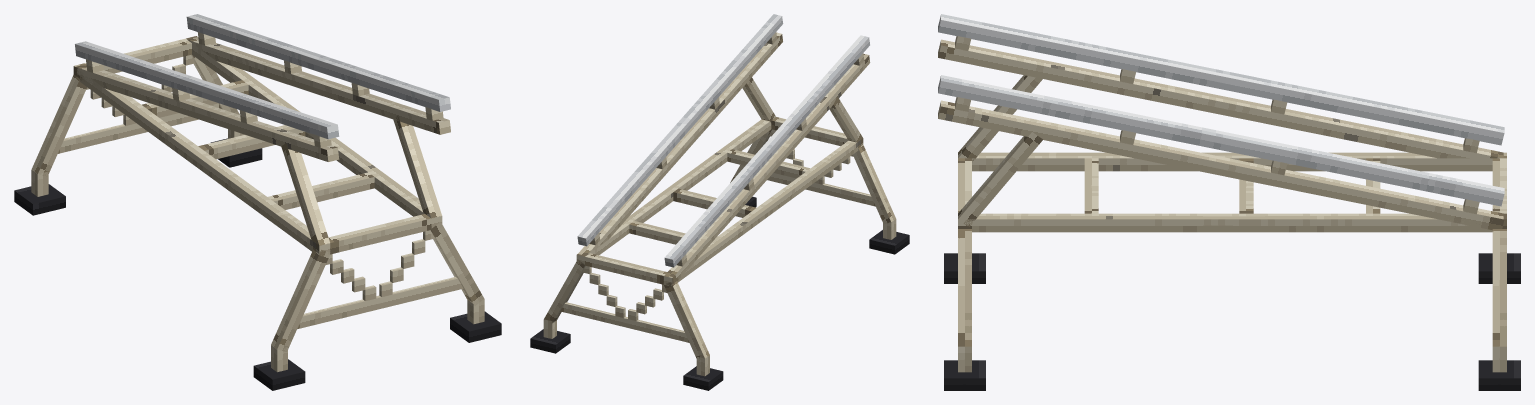
The model's file is launcher.glb.
The picture shows the model from 3 angles, left to right: view 1: azimuth 30°, elevation 25°; view 2: azimuth 150°, elevation 25°; view 3: azimuth 270°, elevation 25°; orthographic projection. The views are drawn at different scales.
Parts seen in each view (by area): view 1: airframe; view 2: airframe; view 3: airframe.
Boxes of the visible parts, x1,y1,x2,y2 form: airframe: (14,14,501,390); airframe: (530,14,909,390); airframe: (938,14,1520,390).
Size of the model in its own units: 1.31 by 1.38 by 2.59.
1 material, 1 textured.
